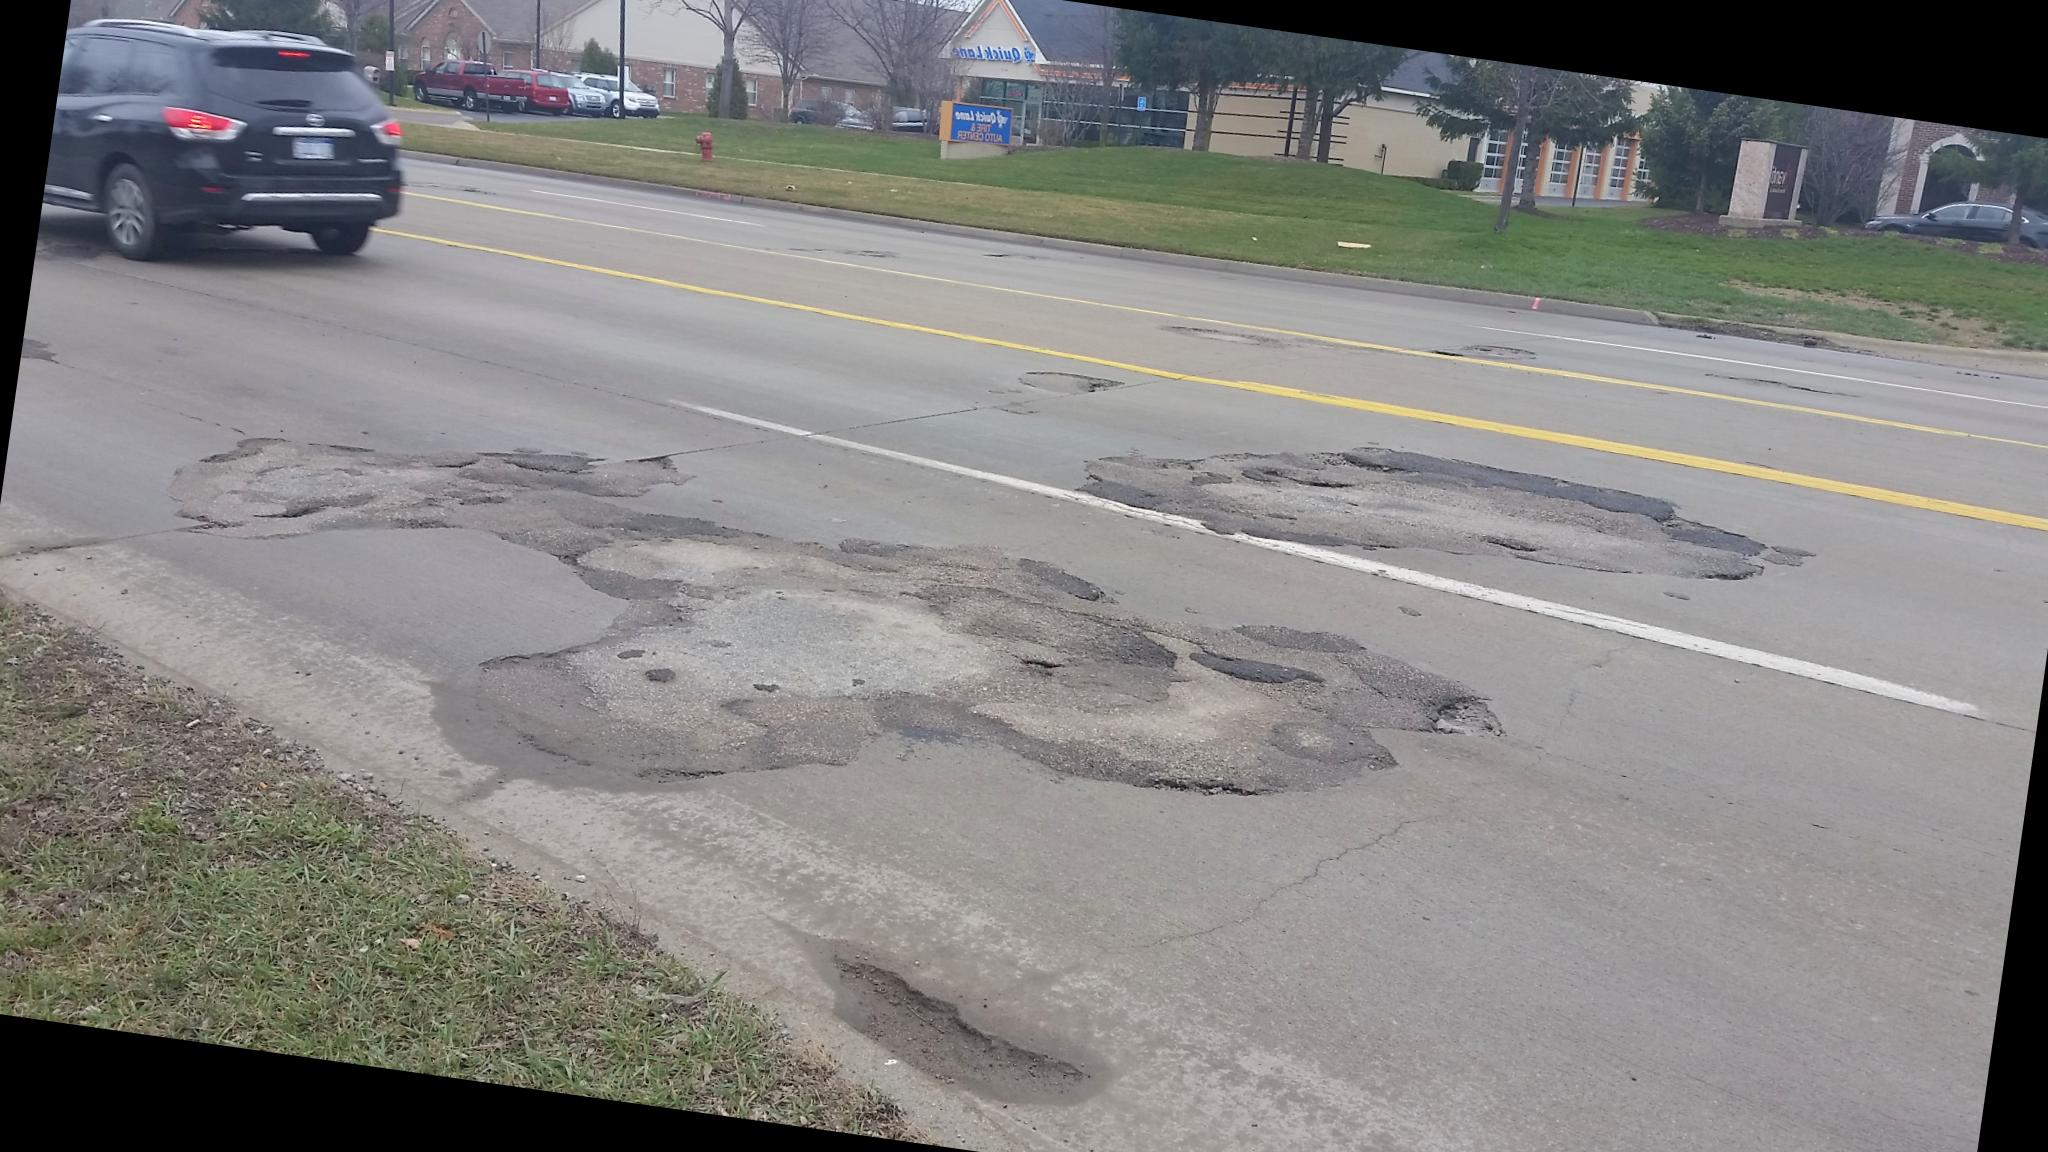pothole: (111, 373, 1606, 933), (1054, 376, 1829, 650), (798, 930, 1124, 1131), (993, 346, 1135, 443), (1151, 311, 1315, 364), (805, 232, 934, 279), (1416, 332, 1553, 376), (978, 238, 1061, 271)
